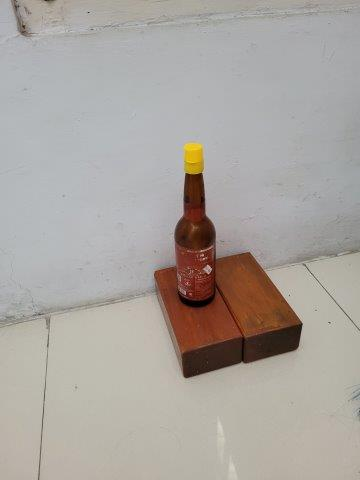botolkaca: (175, 142, 217, 306)
